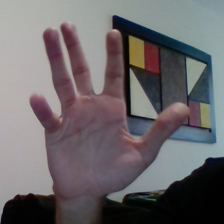left: (19, 18, 189, 199)
